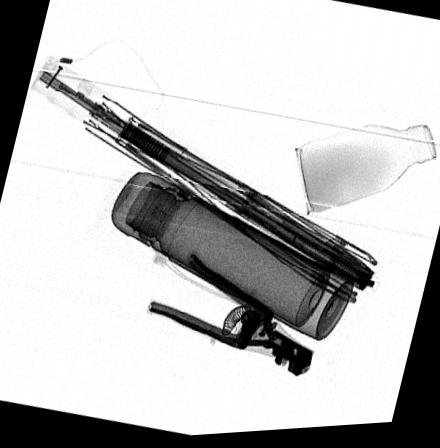Pliers: (146, 254, 313, 379)
